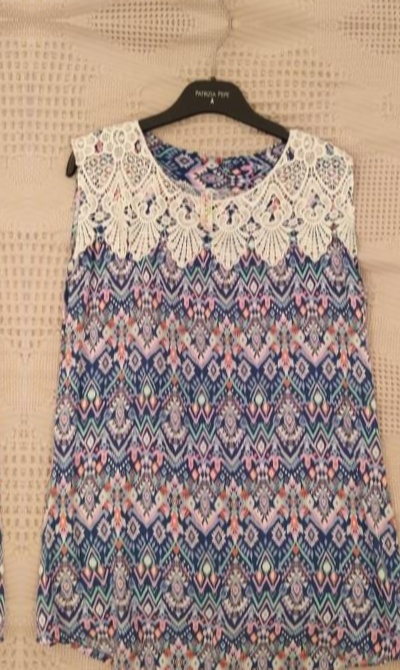Dress: (56, 115, 400, 670)
